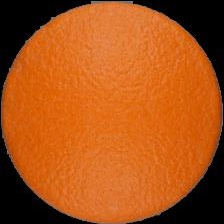0603-0169: (0, 0, 224, 224)
